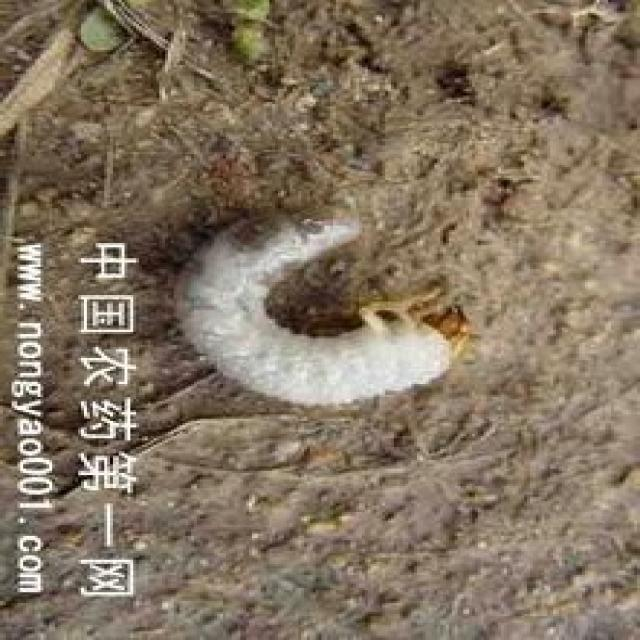grub: (175, 200, 476, 415)
